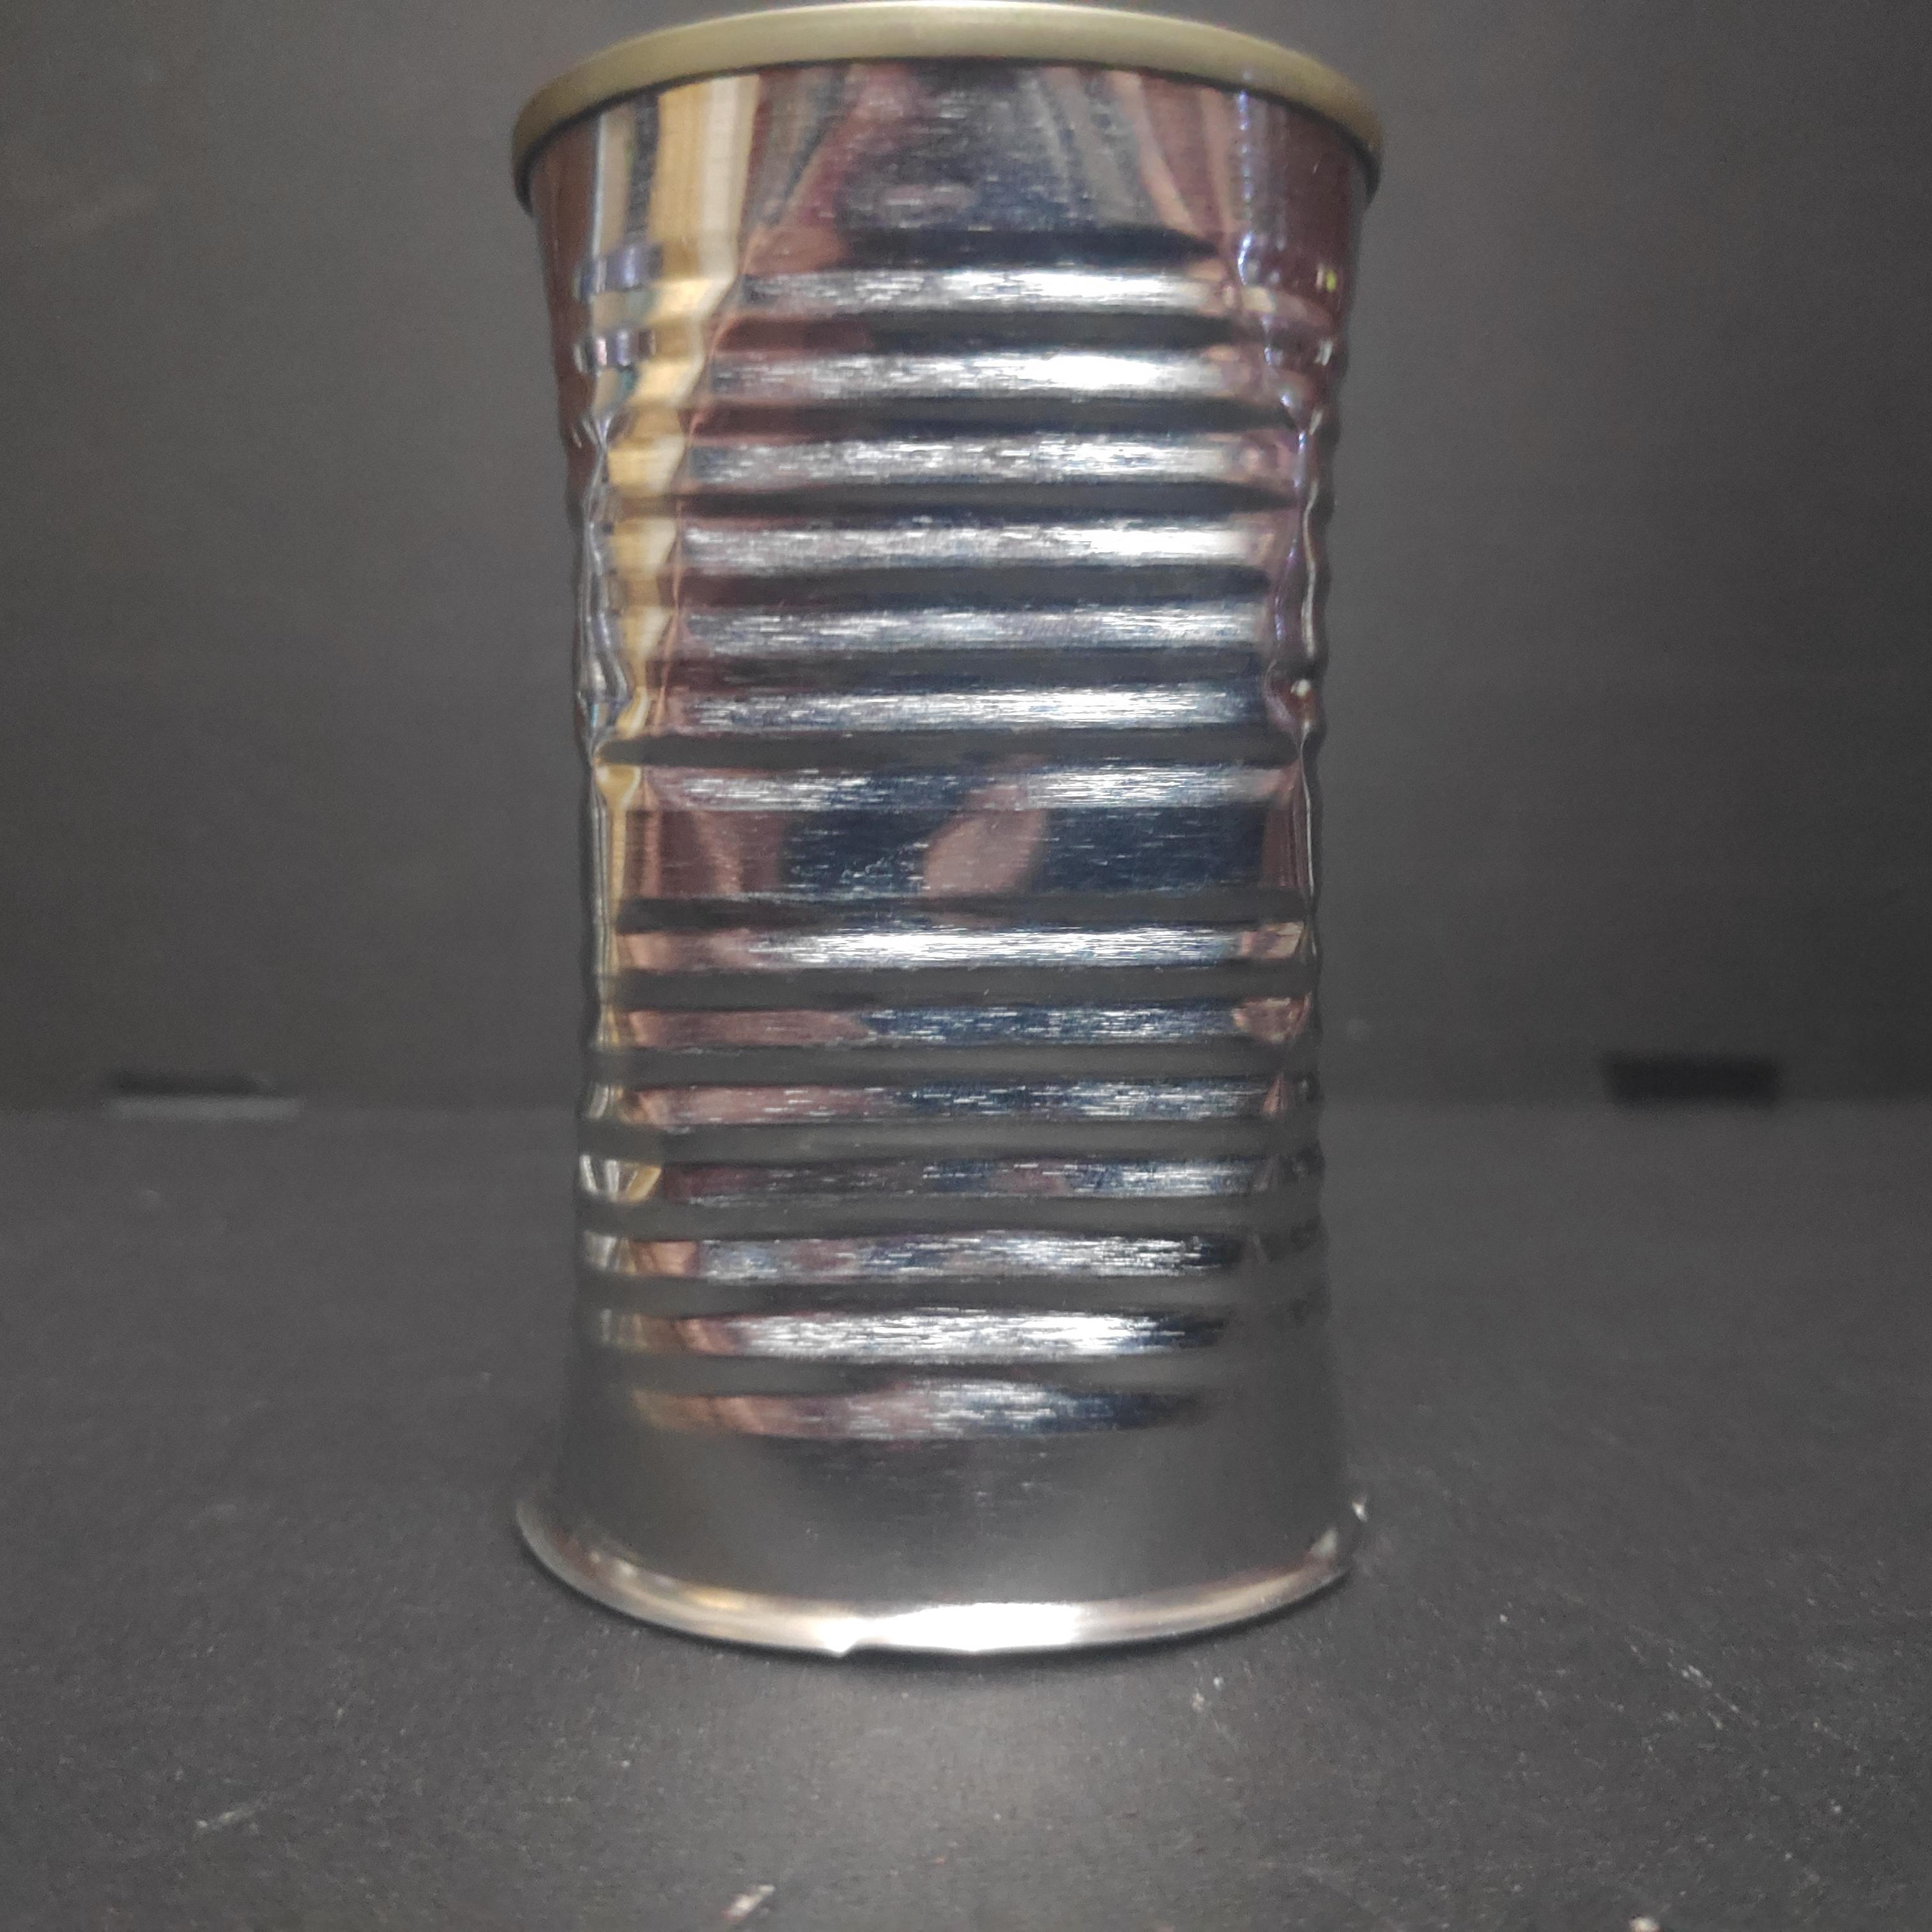Dented: (485, 0, 1408, 1709)
